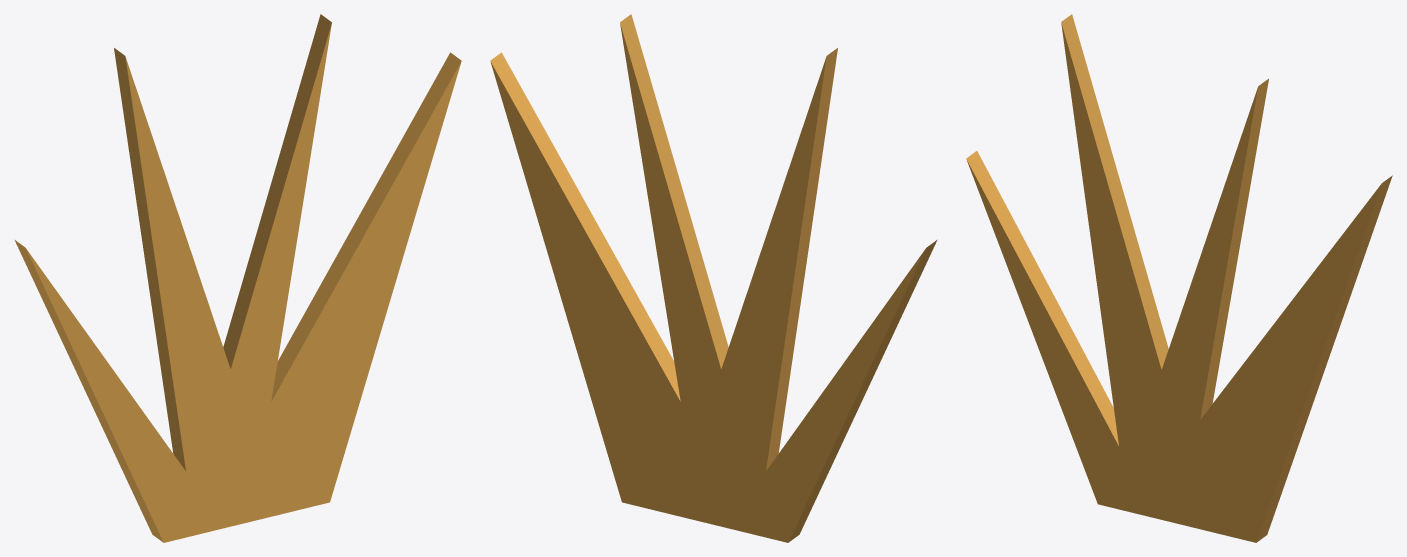
The model's file is fallgrass1.fbx.
The picture shows the model from 3 angles, left to right: view 1: azimuth 30°, elevation 25°; view 2: azimuth 150°, elevation 25°; view 3: azimuth 330°, elevation 25°; orthographic projection. The views are drawn at different scales.
Parts seen in each view (by area): view 1: grass; view 2: grass; view 3: grass.
Boxes of the visible parts, bbox=[...] form: grass: bbox=[14, 14, 461, 542]; grass: bbox=[490, 14, 937, 542]; grass: bbox=[966, 14, 1392, 542].
Size of the model in its own units: 39.41 by 42.87 by 1.79.
